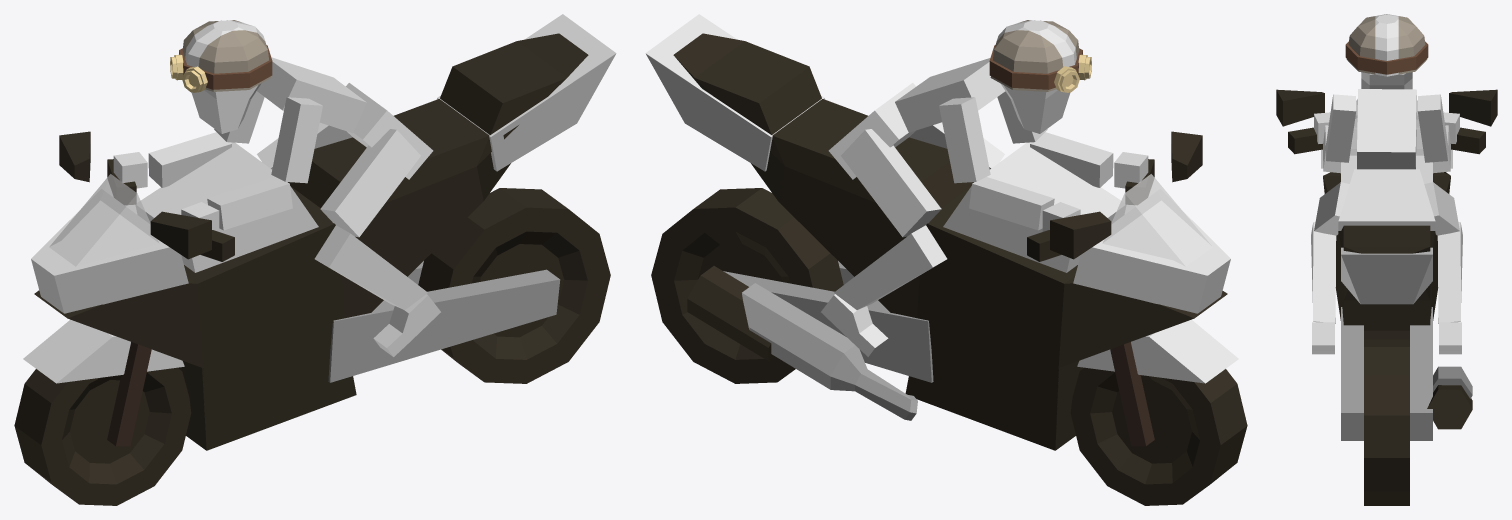
The model's file is FriendsBike-A.fbx.
3 renders of one model, left to right at view 1: azimuth 30°, elevation 25°; view 2: azimuth 150°, elevation 25°; view 3: azimuth 270°, elevation 25°, orthographic. The views are drawn at different scales.
Visible parts, largest first — view 1: 立方体.027, 円柱.016, 円柱.015, 立方体.028, 立方体.031, 立方体.029, 立方体.058, 太もも, 立方体.030, 前腕, 立方体.050, 後腕 (+13 smaller); view 2: 立方体.027, 円柱.016, 円柱.015, 立方体.028, 円柱.018, 立方体.029, 立方体.058, 太もも, 立方体.031, 立方体.030, 前腕, 立方体.050 (+15 smaller); view 3: 円柱.016, 立方体.027, 立方体.031, 肋骨, 腰, ふくらはぎ, 立方体.058, 後腕, 立方体.056, 太もも, メット赤, 円柱.017 (+10 smaller).
Boxes of the visible parts, <box> form: 立方体.027: <box>34,33,588,450</box>; 円柱.016: <box>418,188,610,383</box>; 円柱.015: <box>14,367,191,505</box>; 立方体.028: <box>31,189,188,313</box>; 立方体.031: <box>328,261,560,382</box>; 立方体.029: <box>136,142,318,272</box>; 立方体.058: <box>437,14,616,171</box>; 太もも: <box>257,122,420,237</box>; 立方体.030: <box>49,174,159,266</box>; 前腕: <box>148,132,292,230</box>; 立方体.050: <box>23,319,184,383</box>; 後腕: <box>214,91,322,183</box>; 立方体.027: <box>673,33,1227,450</box>; 円柱.016: <box>651,188,843,383</box>; 円柱.015: <box>1070,367,1247,505</box>; 立方体.028: <box>1073,189,1230,313</box>; 円柱.018: <box>742,283,917,420</box>; 立方体.029: <box>943,142,1125,272</box>; 立方体.058: <box>645,14,824,171</box>; 太もも: <box>841,122,1004,237</box>; 立方体.031: <box>723,261,933,382</box>; 立方体.030: <box>1102,174,1212,266</box>; 前腕: <box>969,132,1113,230</box>; 立方体.050: <box>1077,319,1238,383</box>; 円柱.016: <box>1364,339,1409,505</box>; 立方体.027: <box>1323,172,1450,339</box>; 立方体.031: <box>1341,307,1432,440</box>; 肋骨: <box>1357,89,1416,169</box>; 腰: <box>1338,169,1435,230</box>; ふくらはぎ: <box>1311,222,1462,323</box>; 立方体.058: <box>1341,247,1432,304</box>; 後腕: <box>1325,94,1448,162</box>; 立方体.056: <box>1276,89,1497,126</box>; 太もも: <box>1314,182,1459,235</box>; メット赤: <box>1346,16,1427,74</box>; 円柱.017: <box>1427,385,1472,429</box>.
Bounding box in the file's own units: 4898 × 3620 × 1922.
